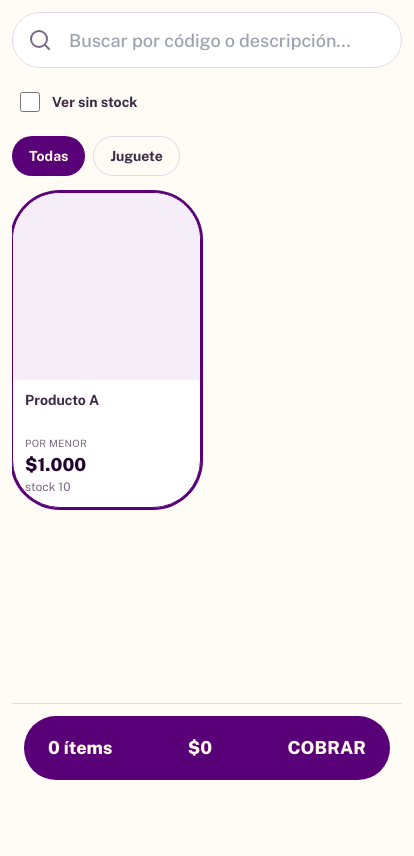
Test: POS pos2 — race y teclado › la barra móvil muestra items y total
Click the button with test id "pos-producto-GL1": (106, 350) top-left (12, 192), bottom-right (201, 508)
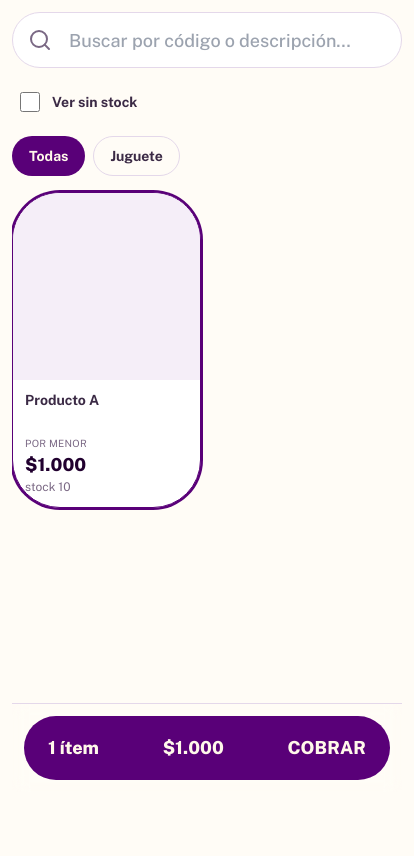
Now the button with test id "pos-barra-movil" shows "1 ítem", box top-left (24, 716), bottom-right (390, 780)
Now the button with test id "pos-barra-movil" shows "1.000", box top-left (24, 716), bottom-right (390, 780)
